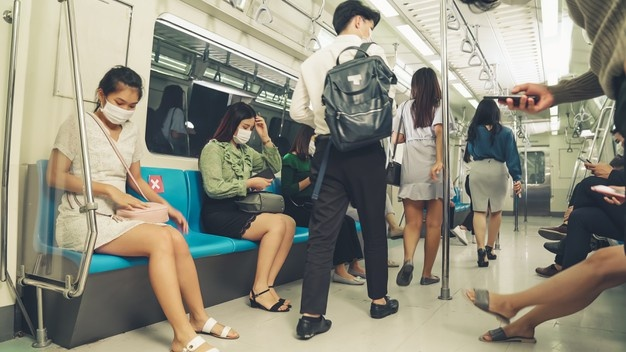with_mask: (105, 87, 140, 126), (232, 118, 255, 146), (609, 131, 626, 157)
